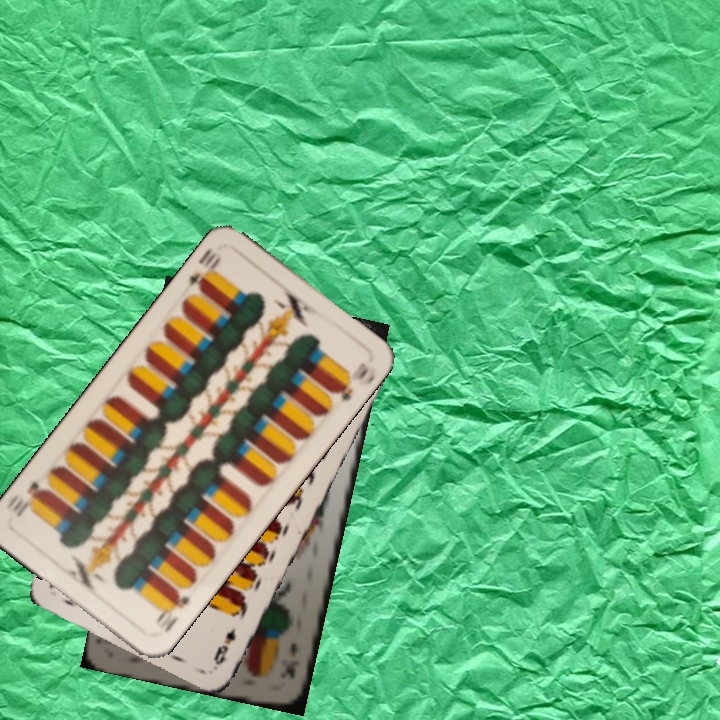E10: (151, 587, 193, 635), (184, 245, 224, 295)
E9: (209, 623, 239, 668)
EK: (282, 638, 303, 681)
